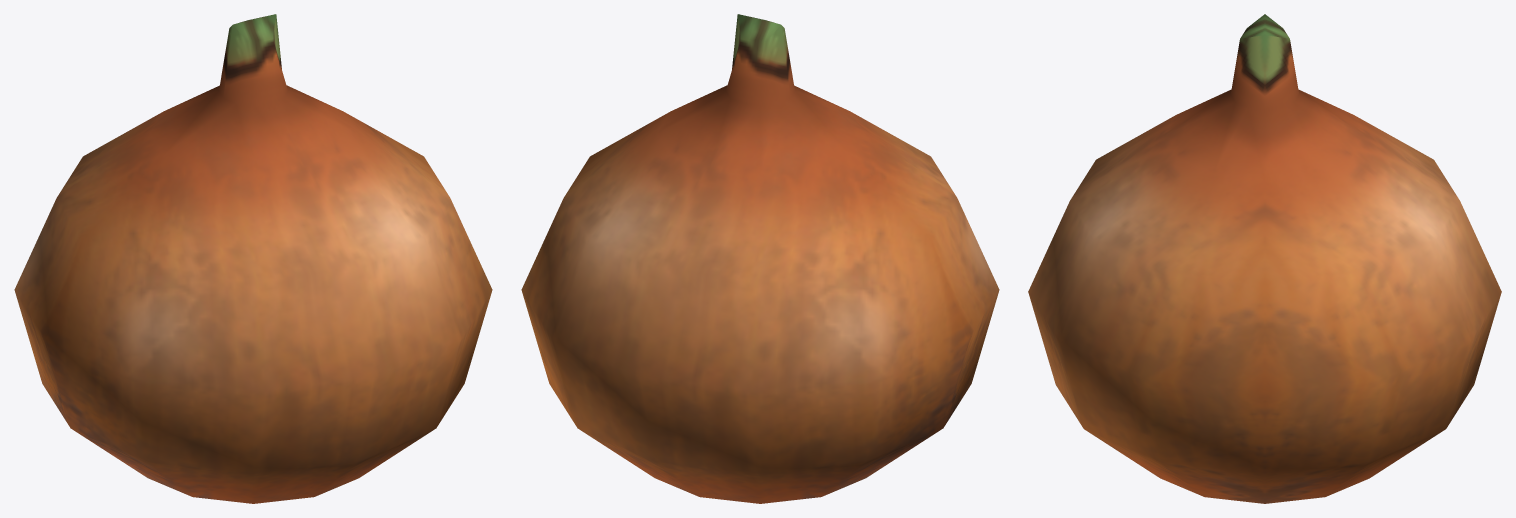
File: plant_onion.gltf
3 renders of one model, left to right at view 1: azimuth 30°, elevation 25°; view 2: azimuth 150°, elevation 25°; view 3: azimuth 270°, elevation 25°, orthographic.
Parts seen in each view (by area): view 1: plant_onion; view 2: plant_onion; view 3: plant_onion.
Boxes of the visible parts, x1,y1,x2,y2 form: plant_onion: [14, 14, 492, 503]; plant_onion: [521, 14, 999, 503]; plant_onion: [1028, 14, 1501, 503].
Size of the model in its own units: 0.1392 by 0.1472 by 0.1392.
Materials: 1 (1 with a texture image).
